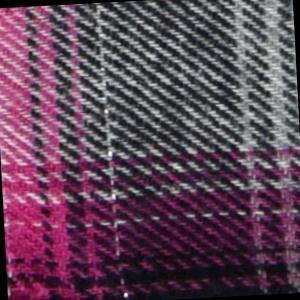Damage: (7, 263, 92, 300)
